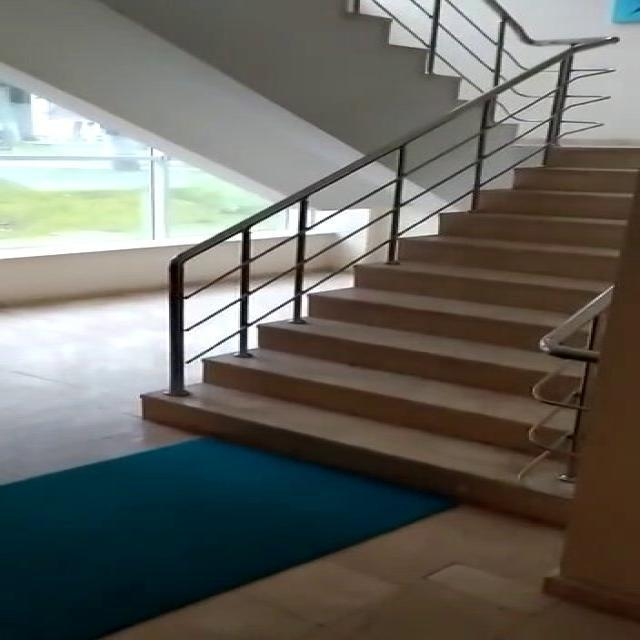stair: (155, 112, 638, 532)
